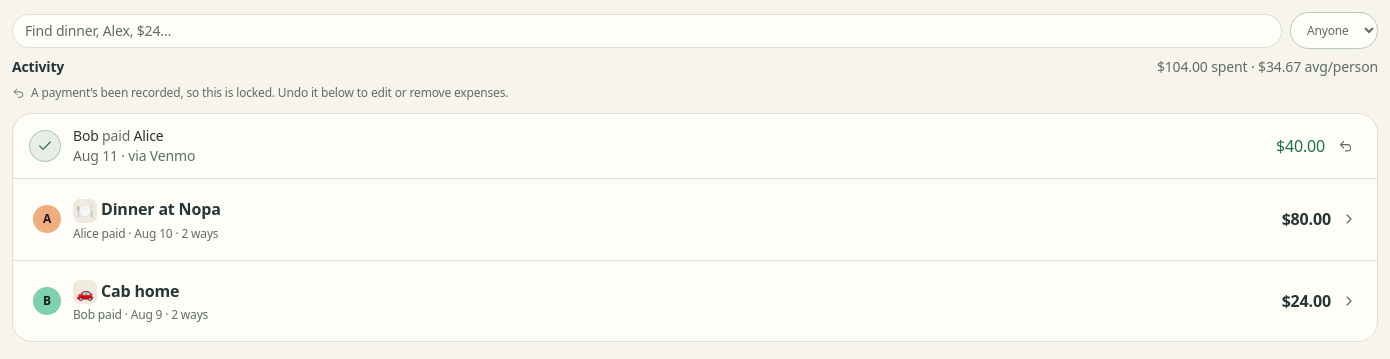
it: the person lens › narrows further by what that person did
This screenshot has width=1390, height=359.
Select "Cara" in the dropdown named "Filter by person" at (1334,30), box [1290,12,1378,49]
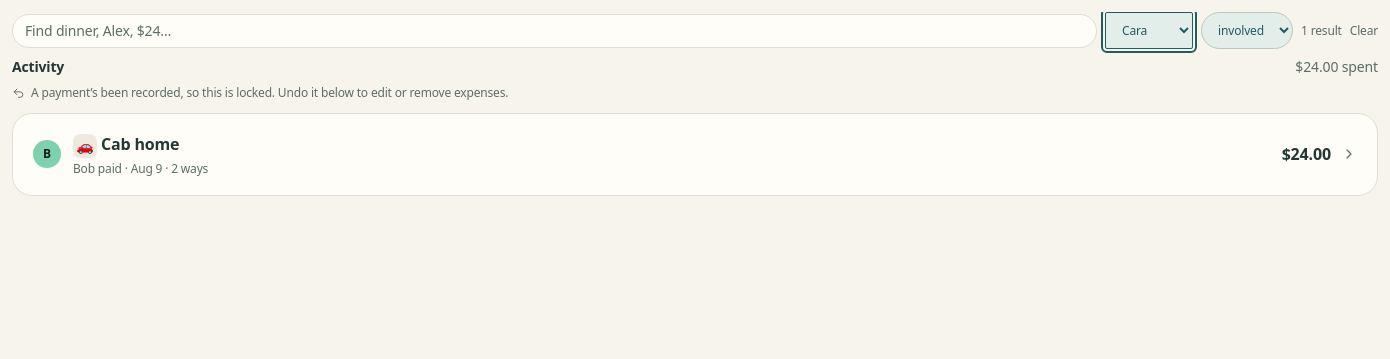
// Cara owes on the cab but paid for nothing.
Select "paid" in the dropdown named "Filter by relationship to the expense" at (1247,30), box [1201,12,1293,49]
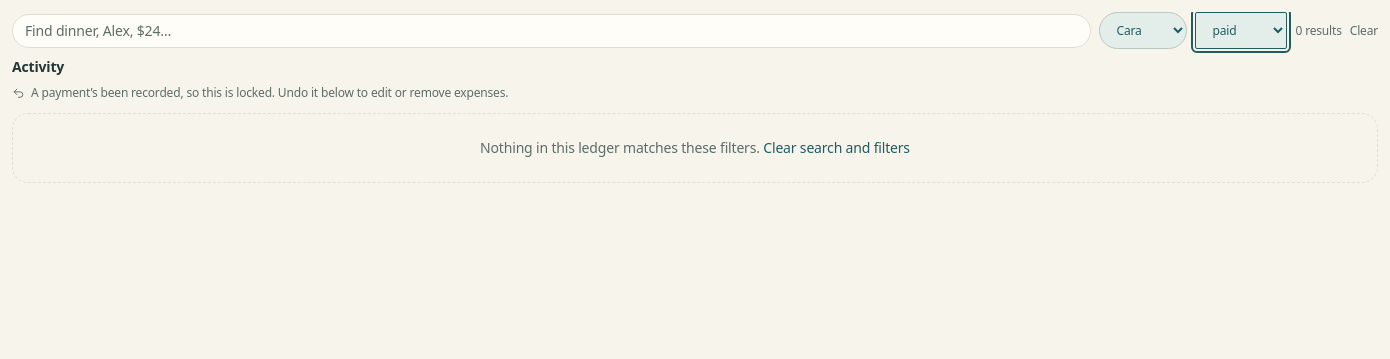
Expected: the button "Cab home" is gone
